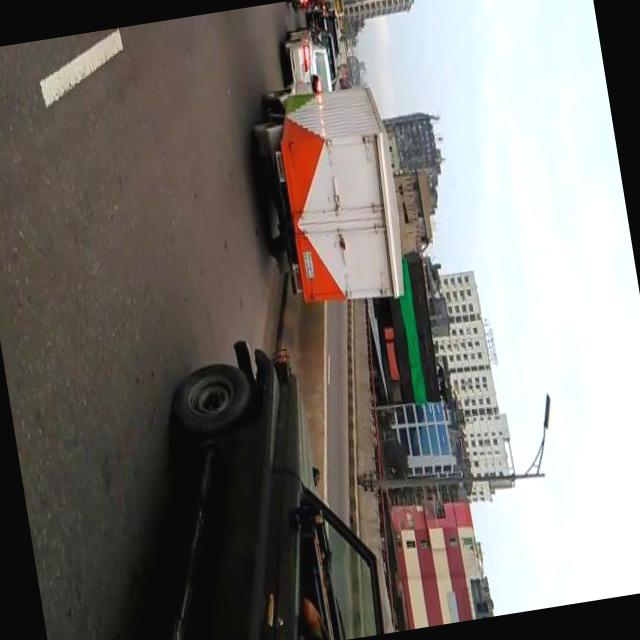car: (276, 18, 334, 94)
truck: (238, 58, 414, 312)
